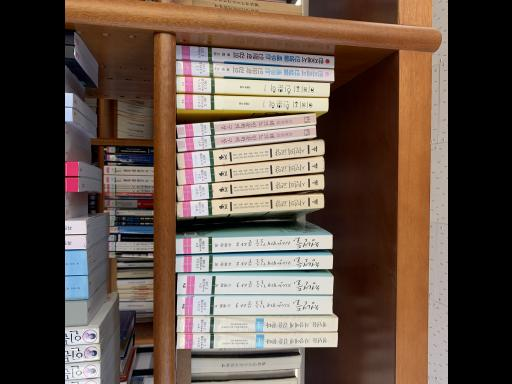book-spine: (176, 141, 324, 169), (175, 157, 323, 185), (176, 175, 324, 201), (176, 45, 334, 68), (176, 126, 316, 151), (175, 114, 316, 138), (176, 194, 323, 217), (176, 76, 329, 97), (175, 61, 334, 81), (175, 235, 332, 254), (176, 276, 333, 295), (176, 296, 332, 315), (175, 255, 332, 272), (176, 94, 328, 111), (176, 333, 337, 349), (176, 319, 337, 333)
